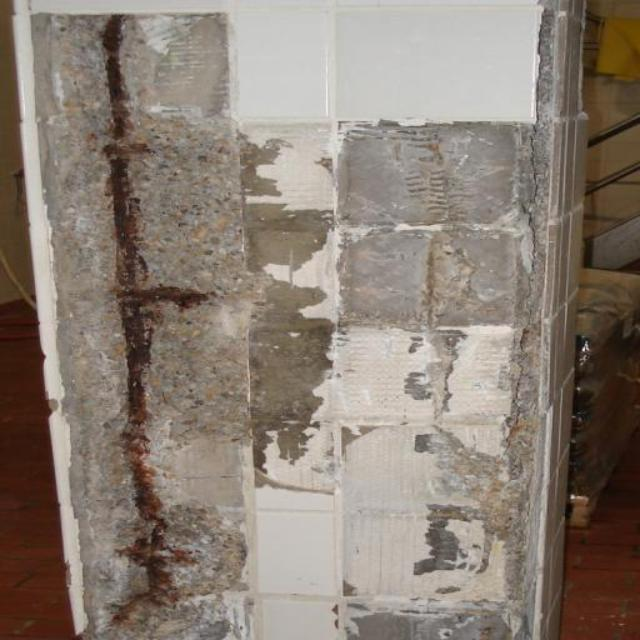D0w0: (34, 14, 257, 639)
